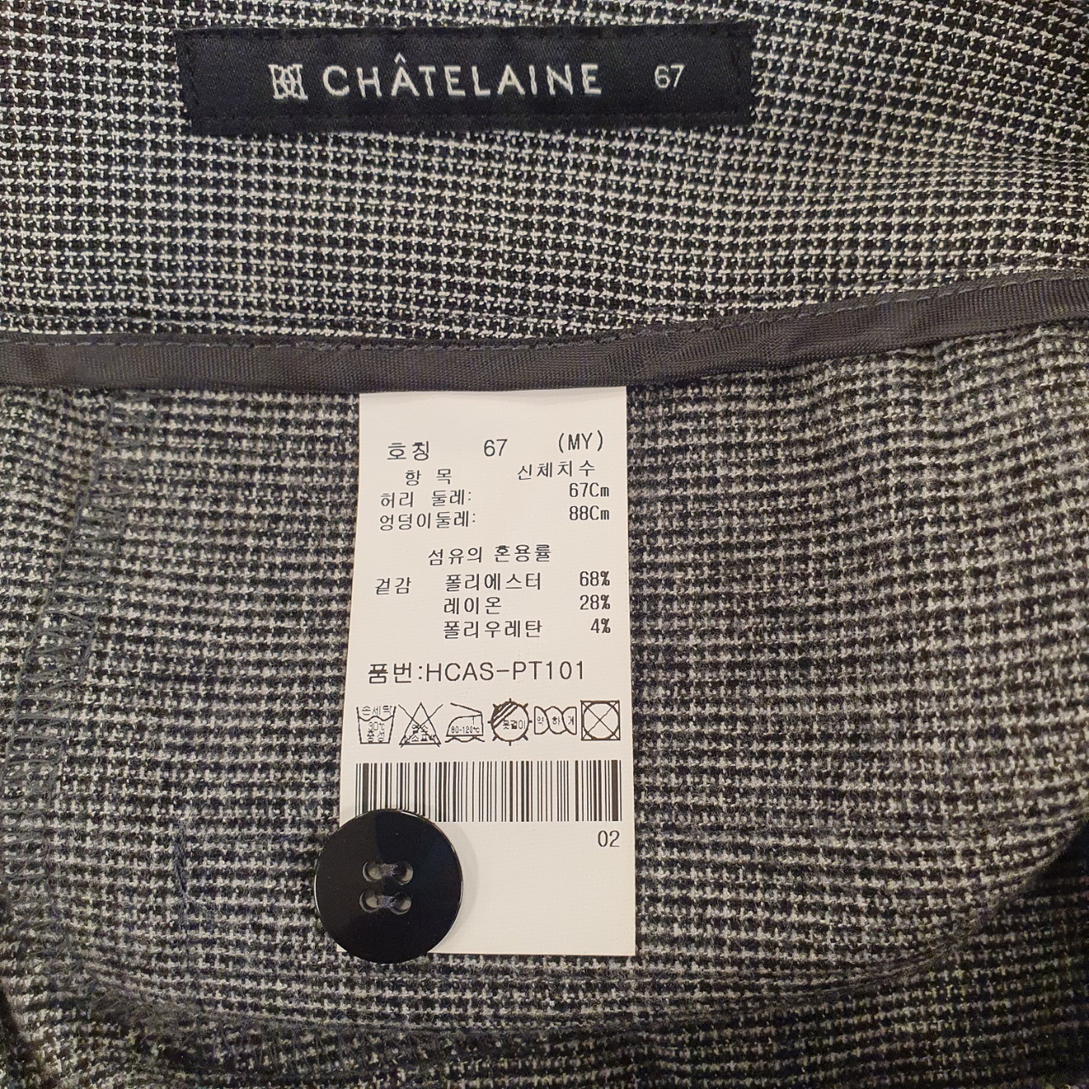KR_gentle_wring: (533, 704, 578, 736)
KR_hand_wash_30_neutral: (353, 703, 398, 749)
KR_hang_dry_in_shade: (488, 698, 530, 743)
KR_iron_low_temp_with_cloth: (445, 700, 486, 744)
KR_no_bleach: (397, 703, 444, 746)
KR_no_tumble_dry: (578, 694, 626, 746)
